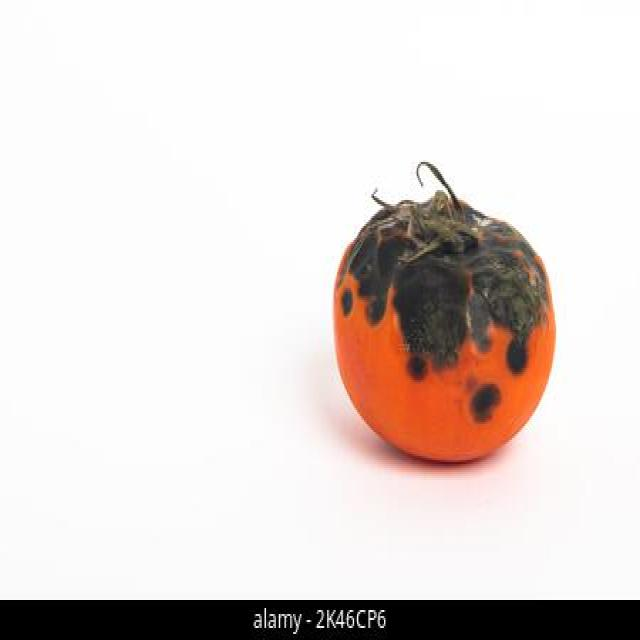Rotten: (332, 197, 558, 466)
